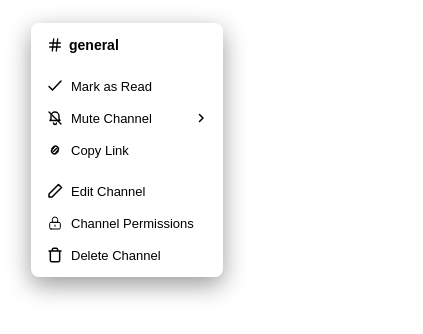
Scenario: ChannelContextMenu › shows Mute Channel item that opens the duration submenu
Expected: the text "Mute Channel" is shown, [71, 110, 152, 126]
Click the button "Mute Channel" at (127, 118), box [37, 102, 217, 134]
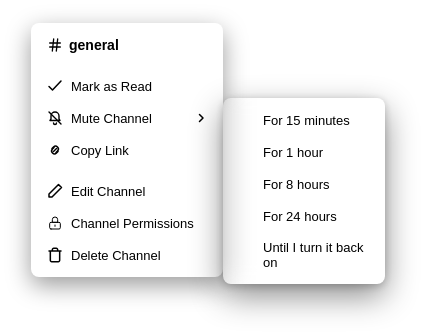
Now the text "For 15 minutes" is shown, box [263, 112, 350, 128]
Now the text "Until I turn it back on" is shown, box [263, 240, 369, 270]
